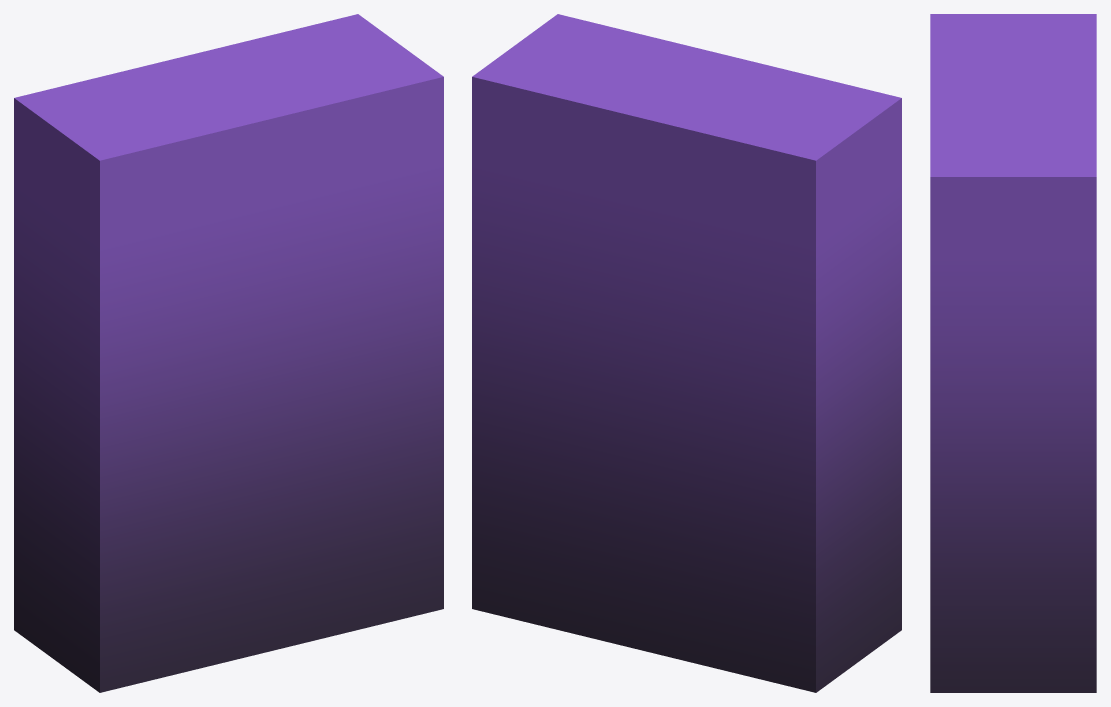
The model's file is Plat01.001.glb.
3 renders of one model, left to right at view 1: azimuth 30°, elevation 25°; view 2: azimuth 150°, elevation 25°; view 3: azimuth 270°, elevation 25°, orthographic. The views are drawn at different scales.
Parts seen in each view (by area): view 1: Plat01.001; view 2: Plat01.001; view 3: Plat01.001.
Boxes of the visible parts, x1,y1,x2,y2 form: Plat01.001: [14, 14, 443, 692]; Plat01.001: [472, 14, 901, 692]; Plat01.001: [930, 14, 1096, 692].
Size of what is drawn, in the model's own units: 3.87 by 5.72 by 1.67.
1 material, 1 textured.
